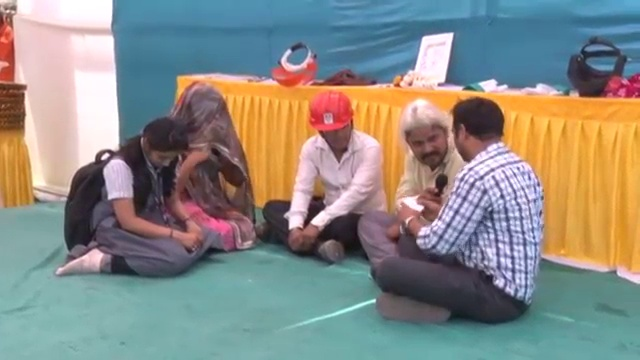helmet: (306, 90, 356, 135)
helmet_off: (451, 96, 509, 169), (174, 83, 231, 157), (397, 100, 455, 166), (133, 116, 189, 175)
helmet_on: (305, 89, 356, 151)
person: (372, 94, 544, 323), (54, 112, 214, 277), (260, 90, 390, 274), (355, 99, 469, 263), (170, 79, 254, 252)
